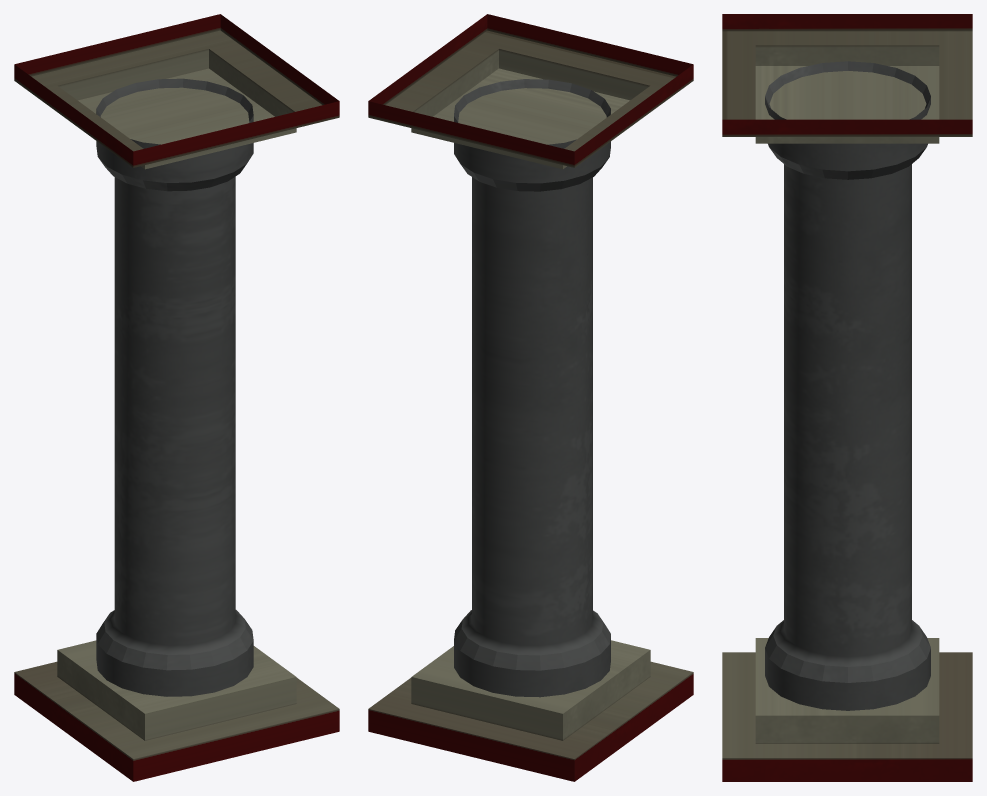
The model's file is Palace_Colum.fbx.
The picture shows the model from 3 angles, left to right: view 1: azimuth 30°, elevation 25°; view 2: azimuth 150°, elevation 25°; view 3: azimuth 270°, elevation 25°; orthographic projection. The views are drawn at different scales.
Parts seen in each view (by area): view 1: Collum4; view 2: Collum4; view 3: Collum4.
Part boxes in pixels (x1,y1,x2,y2): Collum4: [14, 14, 339, 781]; Collum4: [368, 14, 693, 781]; Collum4: [722, 14, 972, 781].
Bounding box in the file's own units: 18.28 × 53.41 × 18.28.
1 material, 1 textured.
